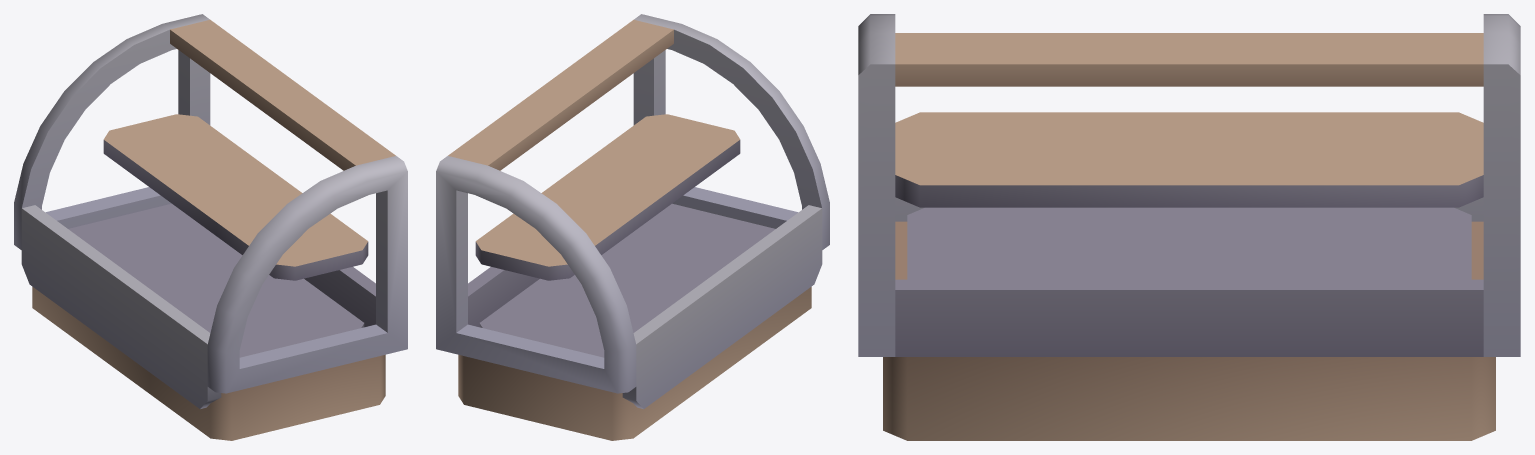
Rendered from counter-display-round.glb.
3 renders of one model, left to right at view 1: azimuth 30°, elevation 25°; view 2: azimuth 150°, elevation 25°; view 3: azimuth 270°, elevation 25°, orthographic. The views are drawn at different scales.
Visible parts, largest first — view 1: counter-display-round; view 2: counter-display-round; view 3: counter-display-round.
Part boxes in pixels (x1,y1,x2,y2): counter-display-round: (14,14,407,440); counter-display-round: (436,14,829,440); counter-display-round: (858,14,1520,440).
Bounding box in the file's own units: 0.7 × 0.856 × 1.35.
